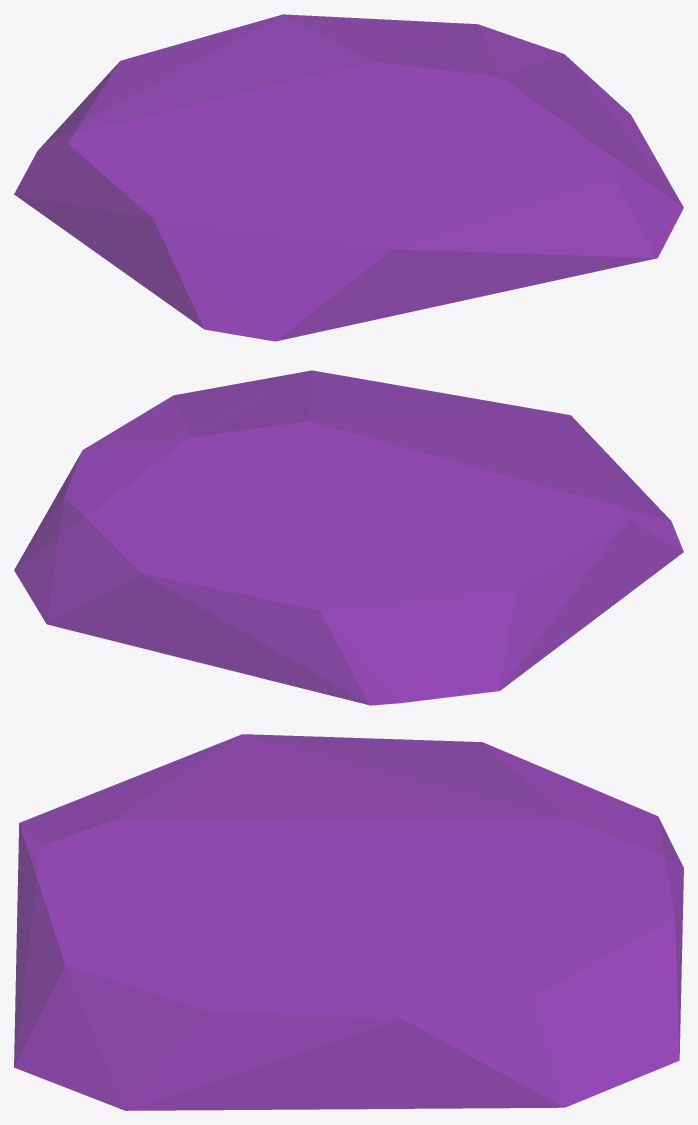
3 views of the same model, one above another, from view 1: azimuth 30°, elevation 25°; view 2: azimuth 150°, elevation 25°; view 3: azimuth 270°, elevation 25° (orthographic). The views are drawn at different scales.
Visible parts, largest first — view 1: Shape_IndexedFaceSet.036_Shape_IndexedFaceSet.16615; view 2: Shape_IndexedFaceSet.036_Shape_IndexedFaceSet.16615; view 3: Shape_IndexedFaceSet.036_Shape_IndexedFaceSet.16615.
Part boxes in pixels (bbox=[...]): Shape_IndexedFaceSet.036_Shape_IndexedFaceSet.16615: bbox=[14, 14, 683, 341]; Shape_IndexedFaceSet.036_Shape_IndexedFaceSet.16615: bbox=[14, 370, 683, 705]; Shape_IndexedFaceSet.036_Shape_IndexedFaceSet.16615: bbox=[14, 734, 683, 1110].
Bounding box in the file's own units: 0.1591 × 0.0226 × 0.1544.
